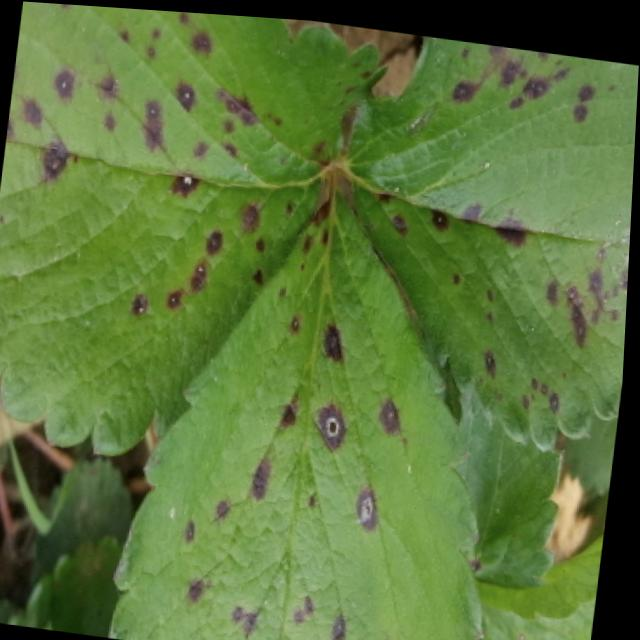Leaf Spot: (113, 171, 491, 640), (0, 1, 393, 451), (338, 29, 639, 443), (459, 381, 571, 584), (568, 407, 622, 488)
